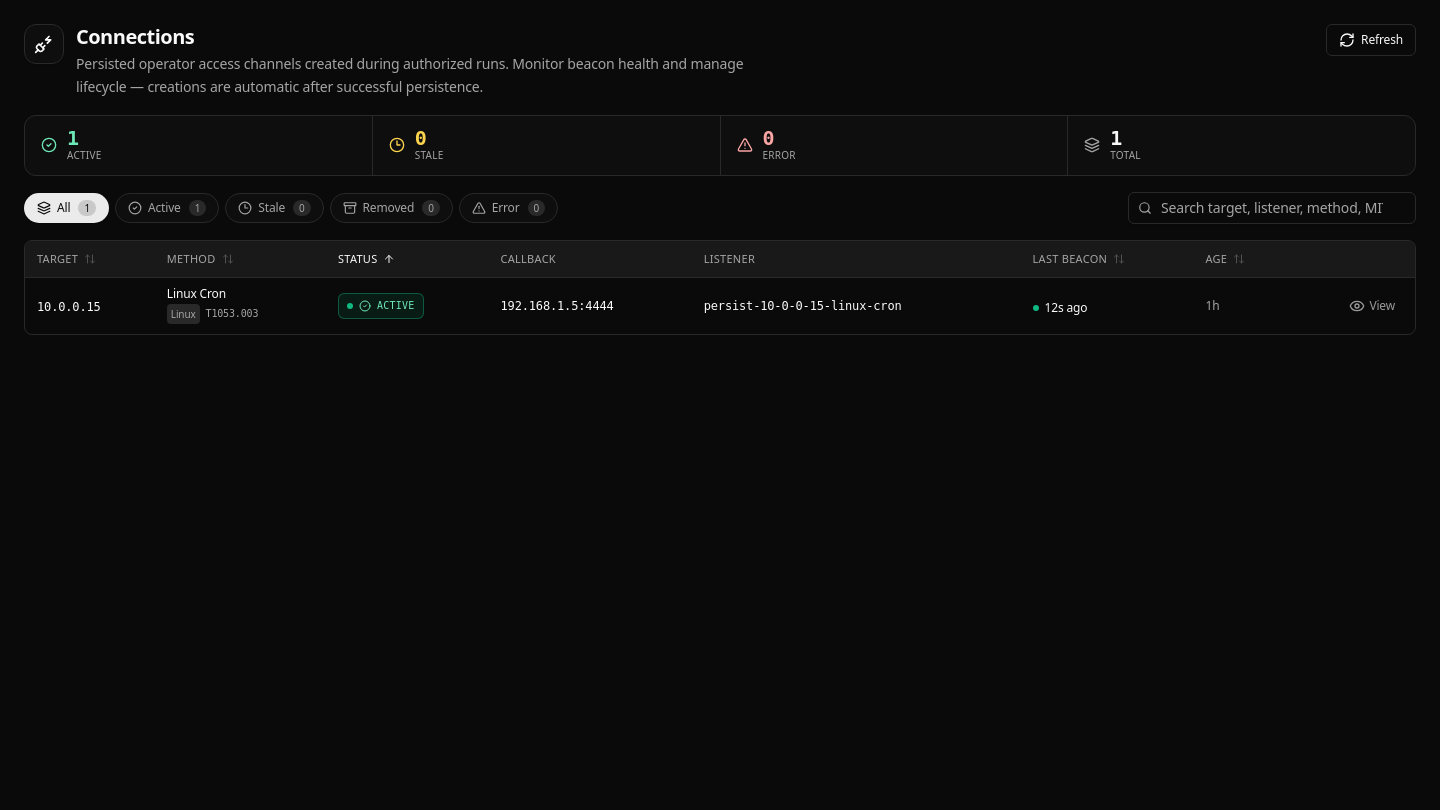
Test case: ConnectionsPage › removal confirmation dialog appears
The image size is (1440, 810).
Step 1. Click the button with aria-label "Open details for 10.0.0.15" → (720, 305), box [25,277,1415,334]
(page scrolled)
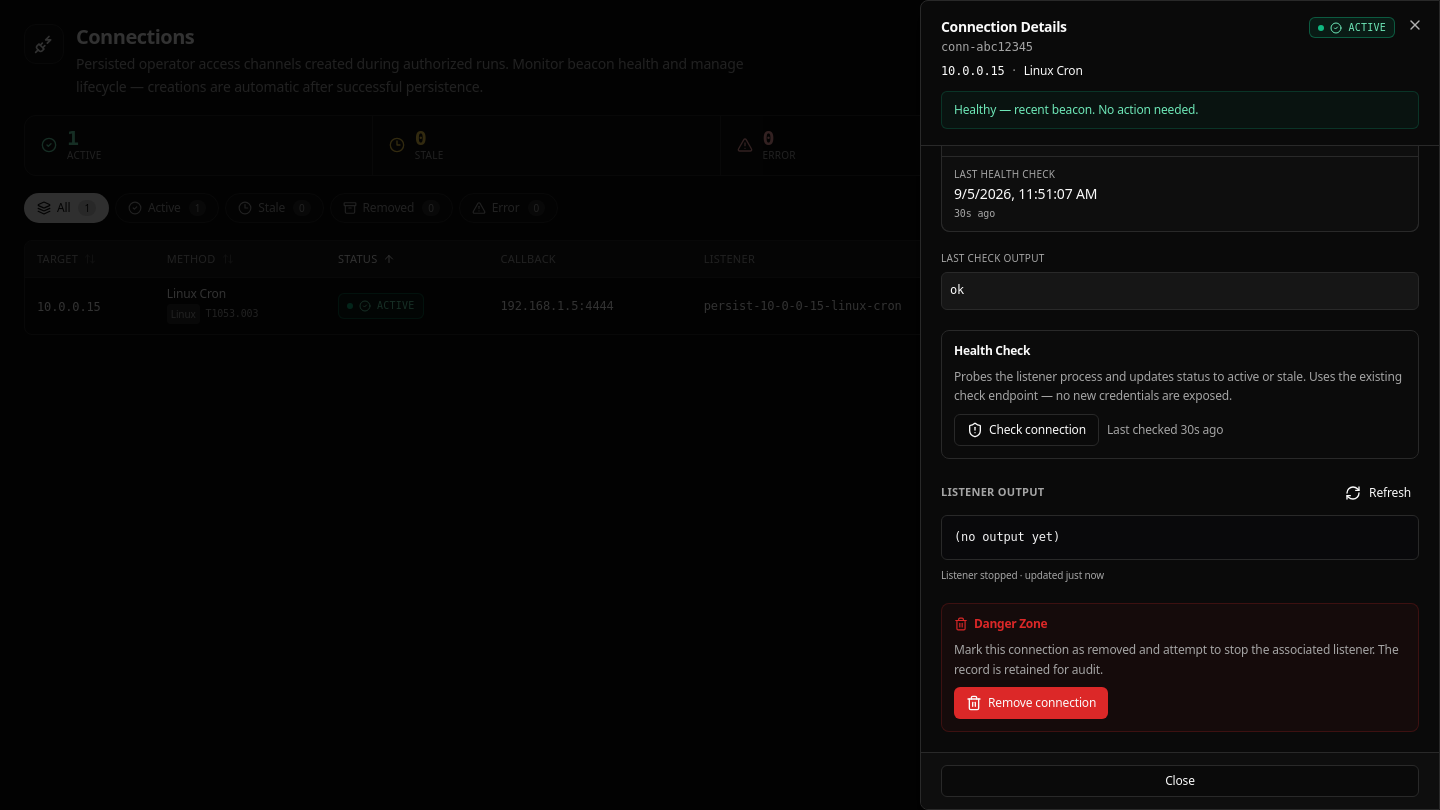
Expected: the heading "Connection Details" is shown, [941,17,1083,37]
# There may be multiple Remove buttons (drawer + dialog trigger) - pick first drawer one
Step 2. Click the button "Remove connection" → (1031, 703), box [954,687,1108,719]
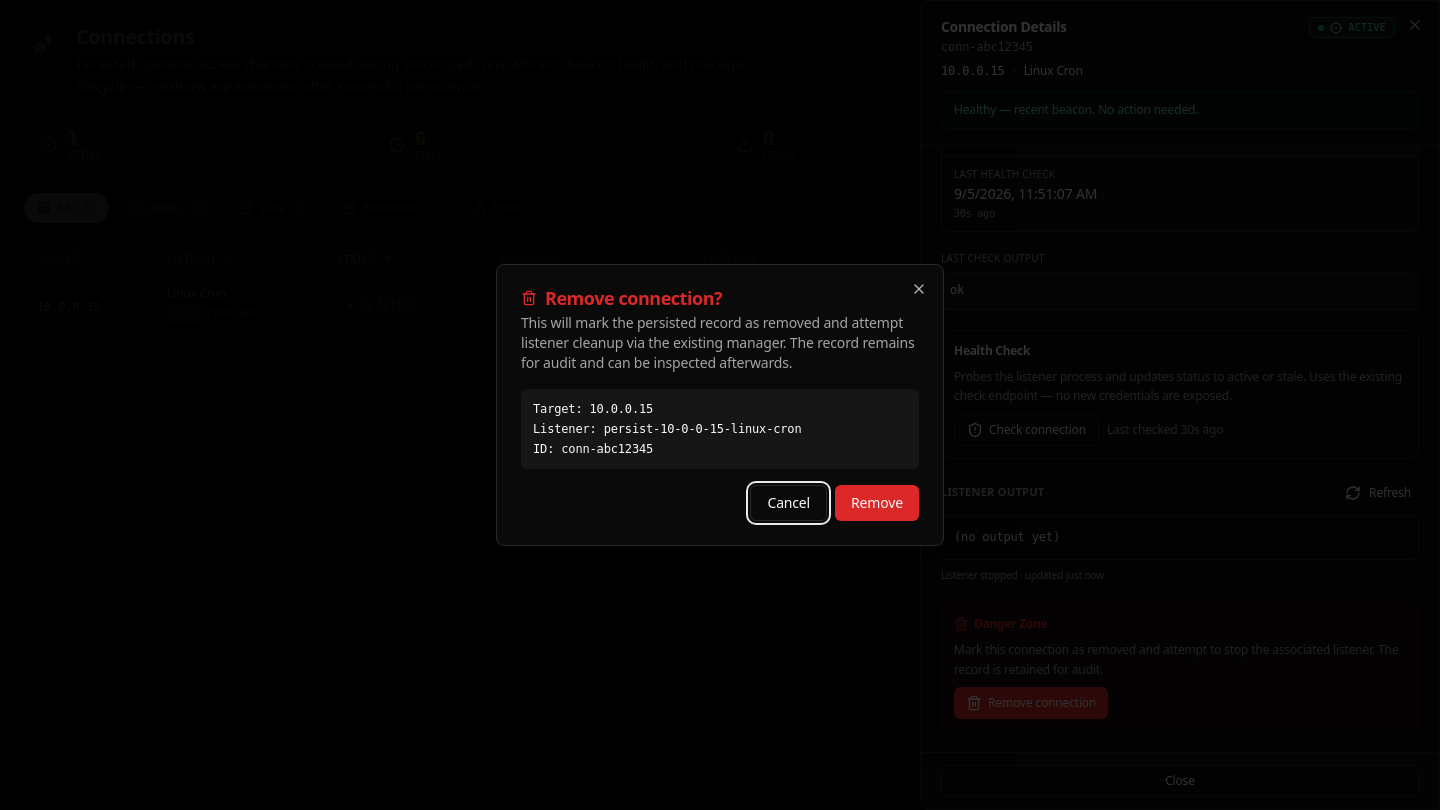
Expected: the heading "Remove connection?" is shown, [521,286,722,310]
Expected: the text "Target: 10.0.0.15" is shown, [533,402,653,416]
